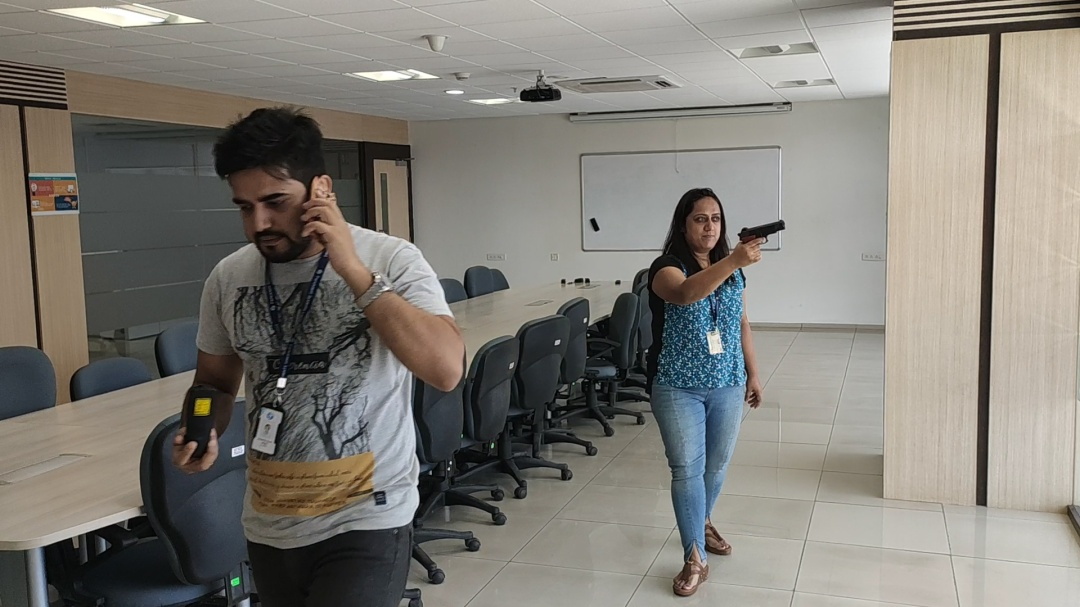gun: (737, 218, 787, 245)
